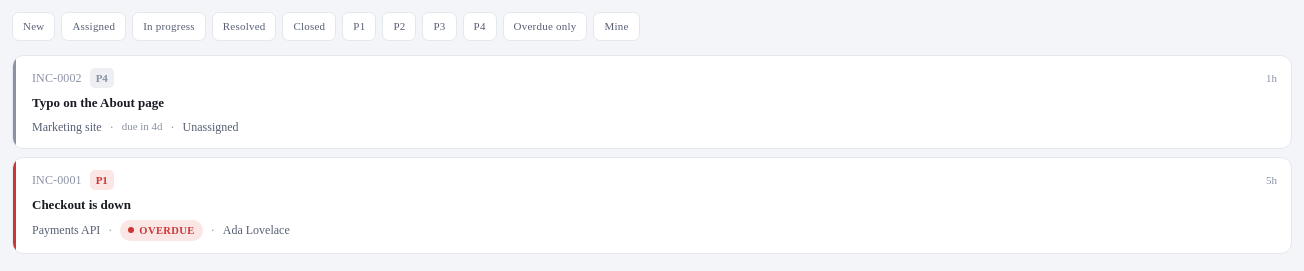
Test: toggling 'Overdue only' hides the non-overdue card and pushes ?overdue=true
Click the button "Overdue only" at (545, 26), box [503,12,587,40]
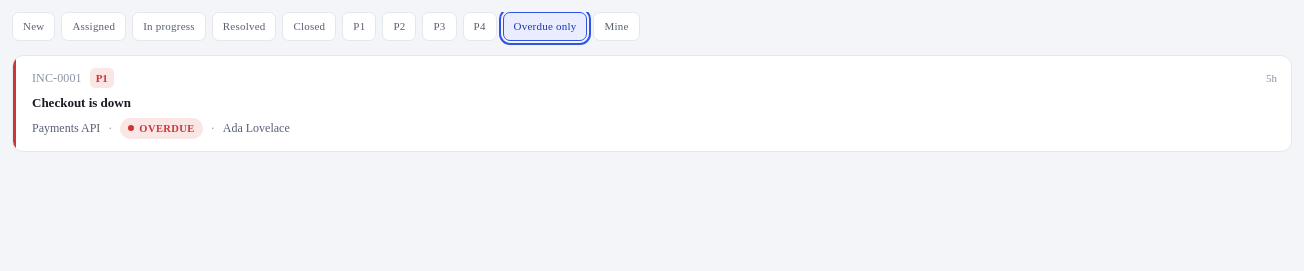
Expected: the text "Checkout is down" is shown, [32,95,131,110]
Now the button "Typo on the About page" is gone
